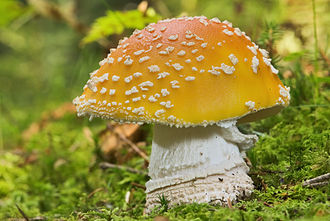boletus_poisinous: (63, 10, 296, 143)
